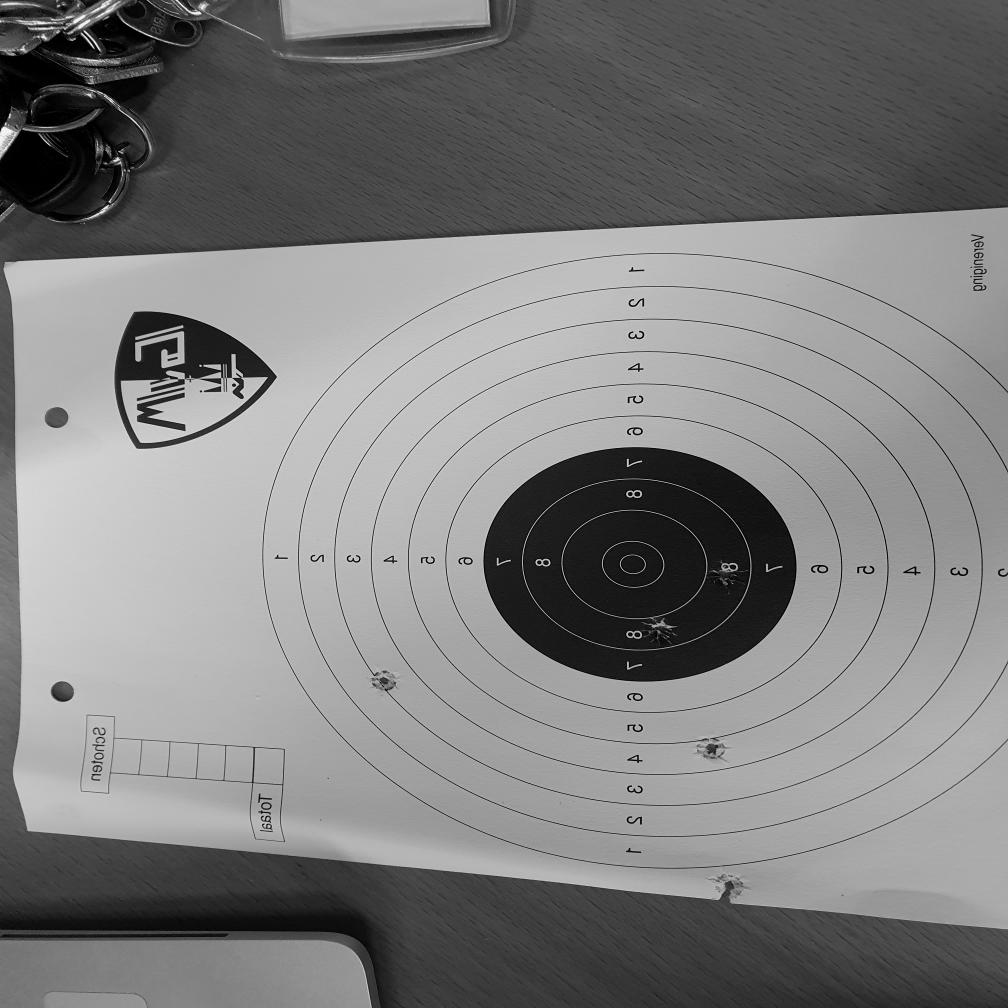0: (705, 870, 754, 905)
3: (360, 666, 405, 695)
5: (694, 730, 731, 769)
8: (707, 556, 744, 594), (642, 616, 678, 646)
Target: (262, 253, 1008, 867)
black_contour: (483, 446, 796, 682)
